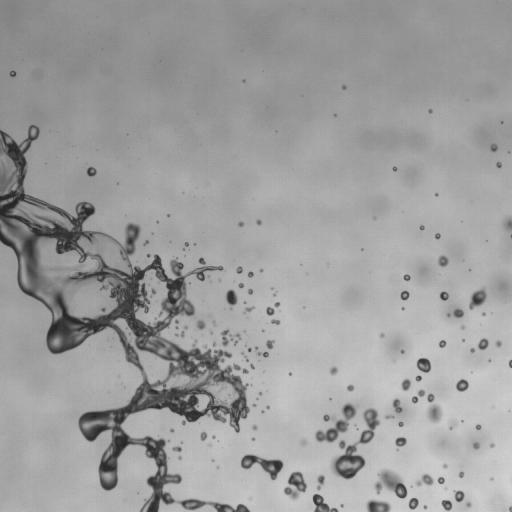droplet: (373, 468, 407, 499), (283, 470, 307, 500), (312, 493, 339, 511), (469, 286, 487, 310), (220, 327, 241, 347), (225, 289, 237, 311), (415, 473, 433, 487), (416, 357, 431, 373), (455, 378, 468, 391), (453, 489, 465, 502), (395, 437, 406, 451), (392, 398, 402, 413), (437, 255, 449, 267), (477, 338, 489, 350), (441, 499, 453, 511), (401, 378, 411, 391), (408, 497, 418, 510), (195, 319, 206, 330), (13, 133, 24, 144), (22, 183, 33, 194), (85, 194, 96, 205), (244, 218, 255, 229), (81, 219, 92, 230), (129, 254, 140, 265), (224, 263, 235, 274), (184, 274, 195, 285), (234, 288, 245, 299), (184, 289, 195, 300), (444, 299, 455, 310), (193, 308, 204, 319), (176, 312, 187, 323), (187, 325, 198, 336), (101, 326, 112, 337), (266, 327, 277, 338), (159, 328, 170, 339), (88, 332, 99, 343), (180, 340, 191, 351), (230, 353, 241, 364), (408, 382, 419, 393), (400, 390, 411, 401), (345, 393, 356, 404), (117, 396, 128, 407), (439, 410, 450, 421), (124, 412, 135, 423), (353, 413, 364, 424), (120, 420, 131, 431), (220, 420, 231, 431), (101, 429, 112, 440), (471, 430, 482, 441), (344, 433, 355, 444), (354, 444, 365, 455), (115, 454, 126, 465), (371, 462, 382, 473), (146, 463, 157, 474), (278, 468, 289, 479), (325, 470, 336, 481), (305, 484, 316, 495), (142, 485, 153, 496), (384, 489, 395, 500), (301, 490, 312, 501), (503, 216, 511, 230), (448, 419, 458, 430), (86, 166, 96, 176), (400, 290, 410, 300), (453, 308, 463, 318), (156, 502, 167, 511), (450, 502, 461, 511), (439, 291, 449, 300), (299, 437, 308, 447), (266, 306, 275, 315), (266, 340, 275, 349), (491, 151, 500, 160), (24, 162, 33, 171), (117, 234, 126, 243), (133, 238, 142, 247), (161, 261, 170, 270), (243, 278, 252, 287), (401, 281, 410, 290), (246, 295, 255, 304), (233, 301, 242, 310), (473, 304, 482, 313), (116, 346, 125, 355), (247, 351, 256, 360), (217, 360, 226, 369), (239, 373, 248, 382), (418, 395, 427, 404), (93, 403, 102, 412), (145, 407, 154, 416), (335, 411, 344, 420), (393, 412, 402, 421), (326, 419, 335, 428), (336, 431, 345, 440), (307, 434, 316, 443), (479, 440, 488, 449), (162, 443, 171, 452), (123, 444, 132, 453), (166, 465, 175, 474), (161, 483, 170, 492), (373, 493, 382, 502), (329, 366, 337, 375), (200, 431, 207, 441), (203, 505, 214, 511), (449, 505, 460, 511), (438, 340, 446, 348), (490, 143, 497, 152), (437, 476, 444, 485), (346, 384, 354, 391), (172, 446, 181, 452), (502, 505, 511, 511), (384, 414, 394, 419), (9, 70, 16, 77), (403, 274, 410, 281), (495, 340, 502, 347), (415, 375, 422, 382), (472, 442, 479, 449), (488, 137, 495, 144), (22, 151, 29, 158), (22, 177, 29, 184), (51, 199, 58, 206), (58, 202, 65, 209), (131, 218, 138, 225), (5, 246, 12, 253), (146, 256, 153, 263), (431, 256, 438, 263), (204, 259, 211, 266), (241, 268, 248, 275), (169, 273, 176, 280), (471, 285, 478, 292), (220, 295, 227, 302), (464, 296, 471, 303), (193, 305, 200, 312), (271, 312, 278, 319), (204, 320, 211, 327), (168, 321, 175, 328), (43, 322, 50, 329), (201, 327, 208, 334), (228, 327, 235, 334), (459, 330, 466, 337), (112, 333, 119, 340), (215, 336, 222, 343), (487, 340, 494, 347), (216, 343, 223, 350), (223, 344, 230, 351), (199, 346, 206, 353), (63, 349, 70, 356), (241, 361, 248, 368), (130, 364, 137, 371), (230, 368, 237, 375), (136, 377, 143, 384), (432, 397, 439, 404), (349, 399, 356, 406), (337, 401, 344, 408), (370, 402, 377, 409), (162, 406, 169, 413), (388, 406, 395, 413), (375, 413, 382, 420), (197, 415, 204, 422), (347, 417, 354, 424), (361, 423, 368, 430), (372, 426, 379, 433), (249, 429, 256, 436), (308, 432, 315, 439), (78, 434, 85, 441), (332, 438, 339, 445), (321, 439, 328, 446), (248, 448, 255, 455), (338, 448, 345, 455), (264, 453, 271, 460), (148, 457, 155, 464), (93, 459, 100, 466), (252, 461, 259, 468), (263, 471, 270, 478), (337, 475, 344, 482), (373, 475, 380, 482), (348, 476, 355, 483), (96, 485, 103, 492), (109, 487, 116, 494), (405, 492, 412, 499), (195, 493, 202, 500), (283, 493, 290, 500), (448, 495, 455, 502), (218, 497, 225, 504), (157, 499, 164, 506), (506, 209, 511, 218), (178, 506, 187, 511), (360, 506, 369, 511), (413, 506, 422, 511), (142, 240, 149, 246), (236, 266, 242, 273), (397, 420, 403, 427), (441, 462, 448, 468), (458, 471, 464, 478), (256, 219, 262, 225), (238, 221, 244, 227), (435, 233, 441, 239), (238, 282, 244, 288), (247, 288, 253, 294), (251, 424, 257, 430), (475, 424, 481, 430), (496, 162, 501, 168), (419, 224, 424, 230), (248, 271, 253, 277), (208, 329, 213, 335), (379, 332, 384, 338), (470, 347, 475, 353), (489, 442, 495, 447), (465, 502, 471, 507), (194, 507, 201, 511), (210, 507, 217, 511), (388, 507, 395, 511), (438, 507, 445, 511), (464, 507, 471, 511), (341, 84, 346, 89), (392, 166, 397, 171), (169, 428, 174, 433), (344, 81, 349, 86), (23, 133, 28, 138), (37, 133, 42, 138), (15, 139, 20, 144), (30, 139, 35, 144), (485, 145, 490, 150), (495, 148, 500, 153), (489, 150, 494, 155), (497, 157, 502, 162), (491, 162, 496, 167), (82, 166, 87, 171), (82, 170, 87, 175), (89, 175, 94, 180), (78, 197, 83, 202), (93, 207, 98, 212), (72, 212, 77, 217), (238, 216, 243, 221), (260, 218, 265, 223), (251, 220, 256, 225), (256, 224, 261, 229), (240, 225, 245, 230), (105, 229, 110, 234), (188, 241, 193, 246), (445, 253, 450, 258), (176, 257, 181, 262), (213, 261, 218, 266), (197, 262, 202, 267), (445, 263, 450, 268), (139, 264, 144, 269), (436, 264, 441, 269), (231, 268, 236, 273), (214, 269, 219, 274), (203, 270, 208, 275), (12, 273, 17, 278), (191, 273, 196, 278), (203, 276, 208, 281), (12, 278, 17, 283), (14, 284, 19, 289), (484, 289, 489, 294), (25, 294, 30, 299), (436, 296, 441, 301), (273, 297, 278, 302), (36, 300, 41, 305), (245, 302, 250, 307), (231, 303, 236, 308), (269, 303, 274, 308), (273, 306, 278, 311), (45, 309, 50, 314), (448, 309, 453, 314), (449, 313, 454, 318), (173, 314, 178, 319), (268, 314, 273, 319), (457, 316, 462, 321), (176, 328, 181, 333), (183, 329, 188, 334), (239, 332, 244, 337), (498, 336, 503, 341), (84, 337, 89, 342), (379, 337, 384, 342), (237, 339, 242, 344), (228, 340, 233, 345), (500, 342, 505, 347), (42, 343, 47, 348), (473, 344, 478, 349), (220, 345, 225, 350), (442, 345, 447, 350), (263, 346, 268, 351), (484, 346, 489, 351), (45, 349, 50, 354), (243, 349, 248, 354), (421, 353, 426, 358), (258, 354, 263, 359), (429, 360, 434, 365), (327, 363, 332, 368), (245, 365, 250, 370), (335, 370, 340, 375), (418, 370, 423, 375), (463, 375, 468, 380), (455, 376, 460, 381), (398, 377, 403, 382), (345, 380, 350, 385), (397, 383, 402, 388), (451, 384, 456, 389), (466, 385, 471, 390), (352, 387, 357, 392), (462, 389, 467, 394), (347, 390, 352, 395), (458, 390, 463, 395), (391, 394, 396, 399), (388, 399, 393, 404), (245, 401, 250, 406), (398, 402, 403, 407), (327, 411, 332, 416), (180, 414, 185, 419), (318, 416, 323, 421), (238, 417, 243, 422), (387, 417, 392, 422), (215, 419, 220, 424), (185, 420, 190, 425), (256, 424, 261, 429), (229, 426, 234, 431), (398, 432, 403, 437), (195, 433, 200, 438), (206, 433, 211, 438), (355, 434, 360, 439), (153, 435, 158, 440), (162, 435, 167, 440), (471, 437, 476, 442), (369, 438, 374, 443), (390, 438, 395, 443), (405, 438, 410, 443), (175, 441, 180, 446), (344, 441, 349, 446), (365, 441, 370, 446), (478, 442, 483, 447), (179, 443, 184, 448), (468, 444, 473, 449), (398, 445, 403, 450), (472, 448, 477, 453), (174, 450, 179, 455), (239, 452, 244, 457), (362, 455, 367, 460), (443, 458, 448, 463), (211, 461, 216, 466), (459, 466, 464, 471), (241, 467, 246, 472), (297, 467, 302, 472), (454, 469, 459, 474), (355, 470, 360, 475), (462, 473, 467, 478), (180, 474, 185, 479), (417, 475, 422, 480), (180, 477, 185, 482), (323, 477, 328, 482), (303, 478, 308, 483), (432, 478, 437, 483), (116, 479, 121, 484), (95, 480, 100, 485), (314, 480, 319, 485), (442, 481, 447, 486), (421, 482, 426, 487), (404, 483, 409, 488), (405, 486, 410, 491), (454, 486, 459, 491), (459, 486, 464, 491), (279, 489, 284, 494), (315, 489, 320, 494), (462, 489, 467, 494), (191, 494, 196, 499), (181, 495, 186, 500), (461, 497, 466, 502), (308, 498, 313, 503), (322, 498, 327, 503), (470, 501, 475, 506), (245, 503, 250, 508), (311, 503, 316, 508), (327, 503, 332, 508), (231, 504, 236, 509), (335, 504, 340, 509), (250, 363, 254, 369), (460, 325, 465, 329), (212, 341, 216, 346), (247, 347, 251, 352), (251, 403, 256, 407), (428, 109, 432, 113), (333, 113, 337, 117), (434, 192, 438, 196), (166, 213, 170, 217), (372, 216, 376, 220), (184, 242, 188, 246), (146, 253, 150, 257), (259, 268, 263, 272), (446, 313, 450, 317), (481, 312, 485, 316), (461, 338, 465, 342), (400, 349, 404, 353), (258, 391, 262, 395), (266, 405, 270, 409), (251, 437, 255, 441), (490, 477, 494, 481), (248, 496, 252, 500), (423, 505, 427, 509), (207, 443, 212, 446), (178, 455, 181, 460), (508, 228, 511, 233), (186, 508, 191, 511), (410, 508, 415, 511), (448, 508, 453, 511), (218, 278, 221, 282), (270, 287, 274, 290), (401, 306, 404, 310), (261, 329, 265, 332), (488, 358, 491, 362), (288, 372, 292, 375), (212, 435, 215, 439), (216, 465, 219, 469), (0, 240, 2, 245), (242, 79, 245, 82), (507, 150, 510, 153), (156, 220, 159, 223), (151, 232, 154, 235), (182, 248, 185, 251), (243, 300, 246, 303), (329, 397, 332, 400), (261, 410, 264, 413), (180, 441, 183, 444), (211, 459, 214, 462), (444, 487, 447, 490), (340, 504, 343, 507), (9, 67, 12, 70), (13, 68, 16, 71), (15, 72, 18, 75), (9, 75, 12, 78), (240, 76, 243, 79), (245, 78, 248, 81), (240, 81, 243, 84), (339, 87, 342, 90), (342, 89, 345, 92), (428, 105, 431, 108), (431, 107, 434, 110), (332, 110, 335, 113), (425, 110, 428, 113), (429, 112, 432, 115), (331, 115, 334, 118), (500, 117, 503, 120), (497, 120, 500, 123), (30, 121, 33, 124), (502, 121, 505, 124), (25, 126, 28, 129), (2, 129, 5, 132), (91, 164, 94, 167), (395, 164, 398, 167), (500, 165, 503, 168), (389, 167, 392, 170), (497, 167, 500, 170), (95, 168, 98, 171), (396, 168, 399, 171), (392, 170, 395, 173), (437, 191, 440, 194), (431, 192, 434, 195), (433, 195, 436, 198), (167, 210, 170, 213), (163, 213, 166, 216), (167, 216, 170, 219), (153, 221, 156, 224), (158, 221, 161, 224), (417, 223, 420, 226), (423, 226, 426, 229), (100, 229, 103, 232), (420, 229, 423, 232), (434, 230, 437, 233), (439, 232, 442, 235), (431, 234, 434, 237), (484, 236, 487, 239), (438, 237, 441, 240), (184, 238, 187, 241), (435, 238, 438, 241), (487, 238, 490, 241), (145, 243, 148, 246), (195, 243, 198, 246), (360, 244, 363, 247), (184, 246, 187, 249), (357, 247, 360, 250), (362, 249, 365, 252), (158, 254, 161, 257), (196, 256, 199, 259), (131, 264, 134, 267), (222, 265, 225, 268), (260, 265, 263, 268), (468, 265, 471, 268), (250, 268, 253, 271), (465, 269, 468, 272), (469, 270, 472, 273), (252, 271, 255, 274), (260, 271, 263, 274), (403, 271, 406, 274), (238, 272, 241, 275), (251, 275, 254, 278), (400, 275, 403, 278), (409, 277, 412, 280), (197, 279, 200, 282), (403, 279, 406, 282), (251, 287, 254, 290), (400, 288, 403, 291), (406, 288, 409, 291), (441, 288, 444, 291), (271, 289, 274, 292), (275, 292, 278, 295), (397, 292, 400, 295), (408, 292, 411, 295), (247, 293, 250, 296), (406, 297, 409, 300), (402, 299, 405, 302), (279, 301, 282, 304), (398, 307, 401, 310), (251, 308, 254, 311), (402, 309, 405, 312), (263, 310, 266, 313), (444, 315, 447, 318), (481, 315, 484, 318), (279, 320, 282, 323), (272, 322, 275, 325), (176, 323, 179, 326), (262, 326, 265, 329), (258, 328, 261, 331), (260, 331, 263, 334), (377, 331, 380, 334), (383, 331, 386, 334), (461, 335, 464, 338), (268, 337, 271, 340), (437, 338, 440, 341), (443, 338, 446, 341), (458, 339, 461, 342), (464, 339, 467, 342), (461, 341, 464, 344), (436, 344, 439, 347), (402, 347, 405, 350), (250, 348, 253, 351), (467, 349, 470, 352), (397, 350, 400, 353), (402, 352, 405, 355), (265, 356, 268, 359), (242, 357, 245, 360), (248, 359, 251, 362), (490, 359, 493, 362), (487, 361, 490, 364), (505, 362, 508, 365), (252, 363, 255, 366), (285, 372, 288, 375), (291, 372, 294, 375), (288, 375, 291, 378), (419, 379, 422, 382), (256, 389, 259, 392), (261, 390, 264, 393), (432, 392, 435, 395), (256, 394, 259, 397), (329, 394, 332, 397), (416, 395, 419, 398), (325, 397, 328, 400), (331, 397, 334, 400), (408, 398, 411, 401), (410, 401, 413, 404), (266, 402, 269, 405), (269, 405, 272, 408), (263, 407, 266, 410), (261, 412, 264, 415), (320, 414, 323, 417), (460, 416, 463, 419), (399, 418, 402, 421), (457, 419, 460, 422), (463, 419, 466, 422), (475, 421, 478, 424), (479, 422, 482, 425), (395, 423, 398, 426), (171, 425, 174, 428), (446, 427, 449, 430), (451, 427, 454, 430), (473, 427, 476, 430), (479, 427, 482, 430), (173, 428, 176, 431), (476, 429, 479, 432), (254, 436, 257, 439), (214, 437, 217, 440), (248, 437, 251, 440), (182, 439, 185, 442), (251, 440, 254, 443), (488, 440, 491, 443), (493, 441, 496, 444), (490, 447, 493, 450), (212, 456, 215, 459), (208, 459, 211, 462), (439, 462, 442, 465), (218, 467, 221, 470), (489, 474, 492, 477), (443, 476, 446, 479), (457, 476, 460, 479), (491, 479, 494, 482), (340, 500, 343, 503), (343, 503, 346, 506), (139, 504, 142, 507), (426, 505, 429, 508), (501, 121, 503, 124), (116, 182, 118, 185), (193, 243, 196, 245), (361, 248, 363, 251), (468, 269, 471, 271), (262, 370, 265, 372), (461, 419, 463, 422), (509, 148, 511, 151), (509, 367, 511, 370), (509, 407, 511, 410), (509, 410, 511, 413), (155, 300, 157, 302), (303, 306, 305, 308), (470, 371, 472, 373), (256, 397, 258, 399), (508, 410, 510, 412), (217, 440, 219, 442), (410, 485, 412, 487), (169, 241, 171, 242), (184, 255, 186, 256), (124, 386, 125, 388), (300, 264, 301, 265), (118, 375, 119, 376), (137, 493, 138, 494)
ligament: (329, 407, 380, 479), (314, 402, 359, 442), (240, 454, 283, 480), (426, 393, 443, 423), (365, 499, 391, 511), (411, 389, 425, 404), (254, 346, 268, 357), (316, 474, 325, 490), (242, 306, 255, 314), (240, 351, 248, 362), (174, 319, 180, 329), (270, 319, 280, 325), (272, 290, 277, 297), (353, 423, 358, 430), (212, 319, 216, 327), (243, 329, 247, 335), (244, 341, 247, 347), (510, 234, 511, 238)
